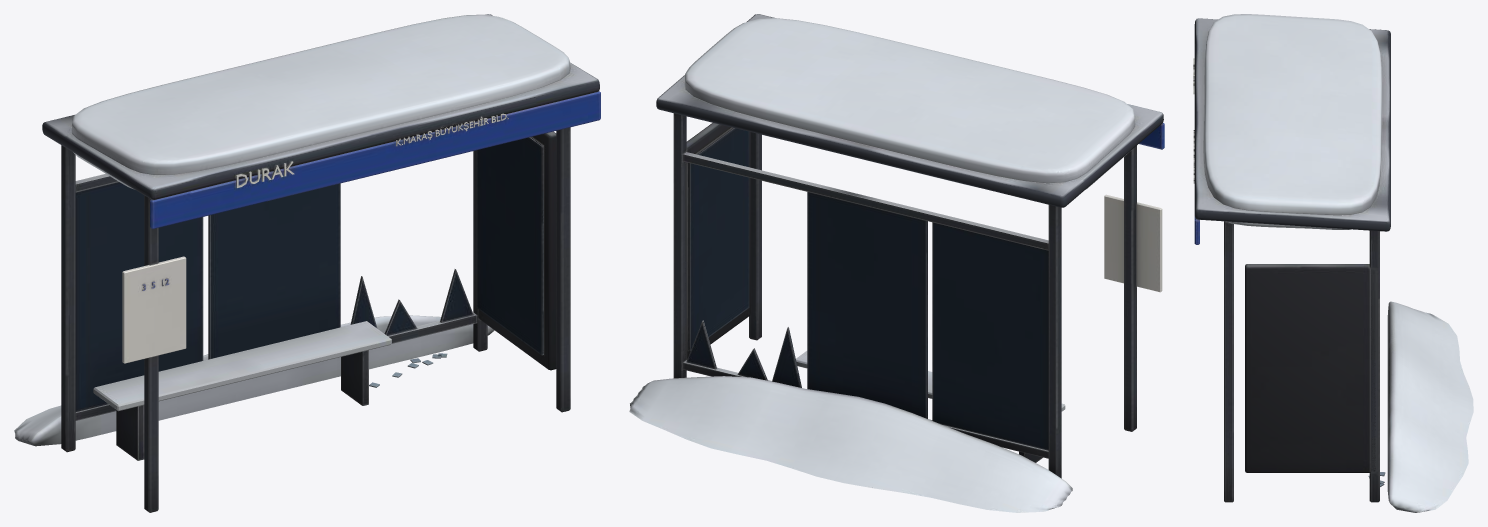
The model's file is bus_stop.glb.
The picture shows the model from 3 angles, left to right: view 1: azimuth 30°, elevation 25°; view 2: azimuth 150°, elevation 25°; view 3: azimuth 270°, elevation 25°; orthographic projection. The views are drawn at different scales.
Visible parts, largest first — view 1: bus_stop; view 2: bus_stop; view 3: bus_stop.
Part boxes in pixels (<box>): bus_stop: <box>14,14,600,512</box>; bus_stop: <box>629,14,1164,512</box>; bus_stop: <box>1193,14,1473,512</box>.
Bounding box in the file's own units: 3.78 × 2.7 × 2.21.
Materials: 1 (1 with a texture image).
